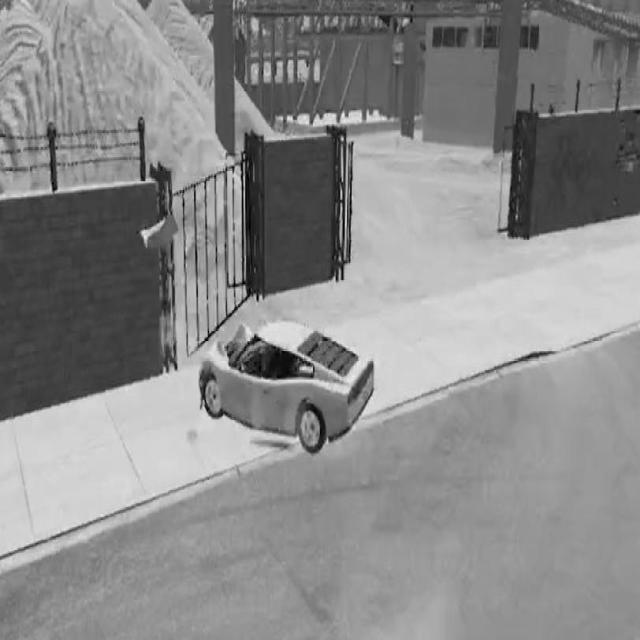accident: (195, 310, 377, 462)
